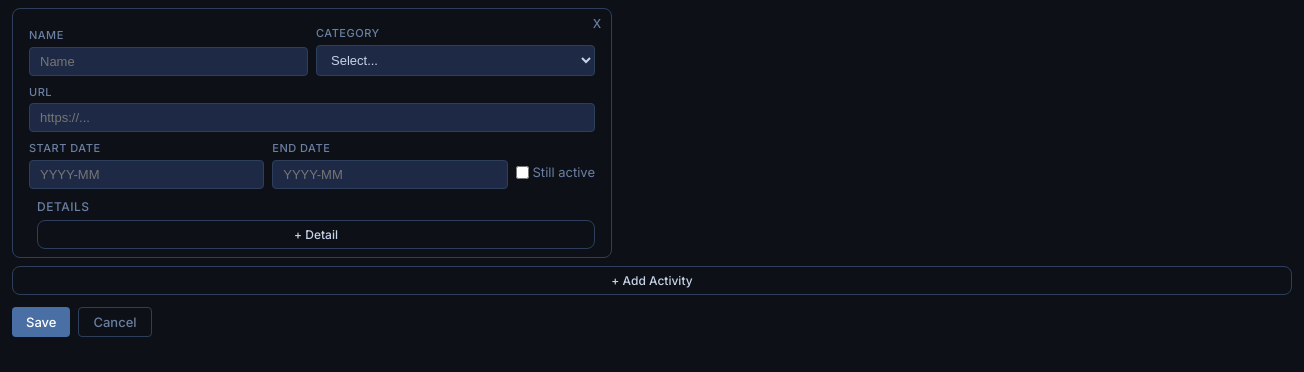
Test: SectionEditor › activities › validates required name on save
Click the button "Save" at (41, 322), box [12, 307, 70, 337]
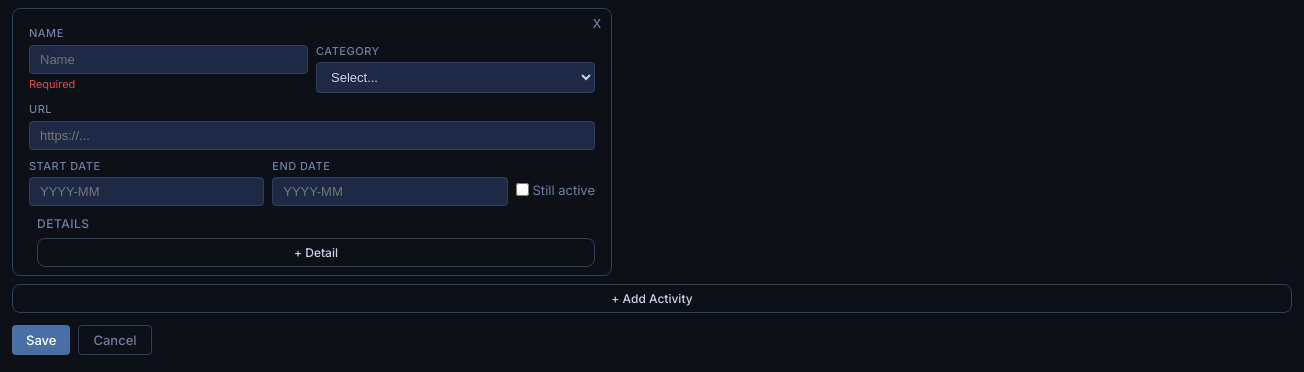
Now the text "Required" is shown, box [29, 77, 75, 91]
